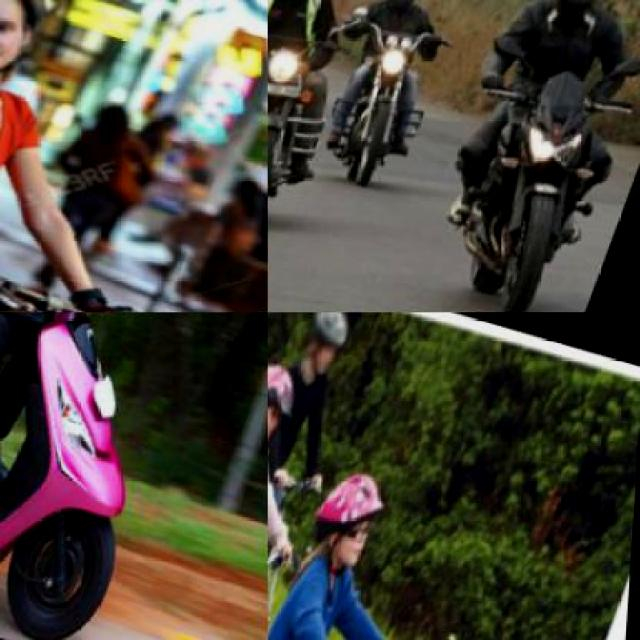With Helmet: (295, 454, 403, 588), (0, 0, 77, 106), (292, 312, 358, 380), (268, 351, 310, 452), (542, 0, 623, 25), (378, 0, 432, 22)
